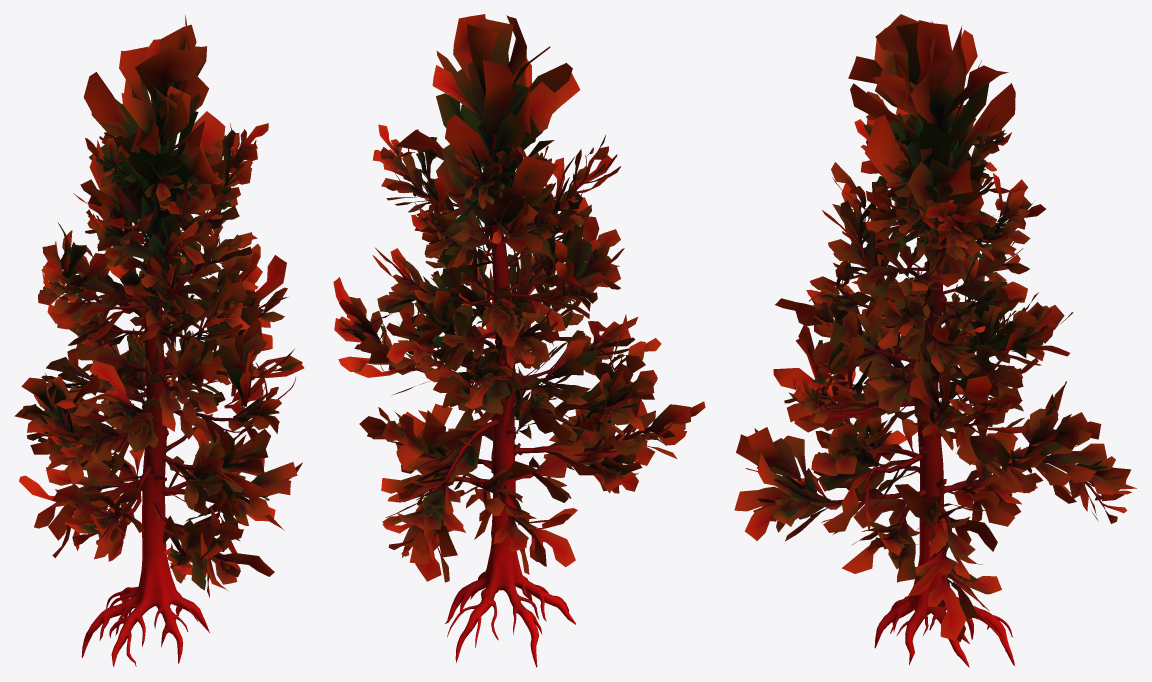
File: JuniperGCATA_B_Dry.fbx
3 renders of one model, left to right at view 1: azimuth 30°, elevation 25°; view 2: azimuth 150°, elevation 25°; view 3: azimuth 270°, elevation 25°, orthographic. The views are drawn at different scales.
Parts seen in each view (by area): view 1: JuniperGCATAB_Leaves_Dry_LOD0, JuniperGCATAB_Bark_Dry_LOD0; view 2: JuniperGCATAB_Leaves_Dry_LOD0, JuniperGCATAB_Bark_Dry_LOD0; view 3: JuniperGCATAB_Leaves_Dry_LOD0, JuniperGCATAB_Bark_Dry_LOD0.
Part boxes in pixels (x1,y1,x2,y2): JuniperGCATAB_Leaves_Dry_LOD0: (14,15,304,597); JuniperGCATAB_Bark_Dry_LOD0: (49,149,296,666); JuniperGCATAB_Leaves_Dry_LOD0: (333,14,705,582); JuniperGCATAB_Bark_Dry_LOD0: (370,133,649,667); JuniperGCATAB_Leaves_Dry_LOD0: (734,14,1136,641); JuniperGCATAB_Bark_Dry_LOD0: (774,123,1105,667).
Size of what is drawn, in the model's own units: 7.66 by 15.56 by 8.58.
